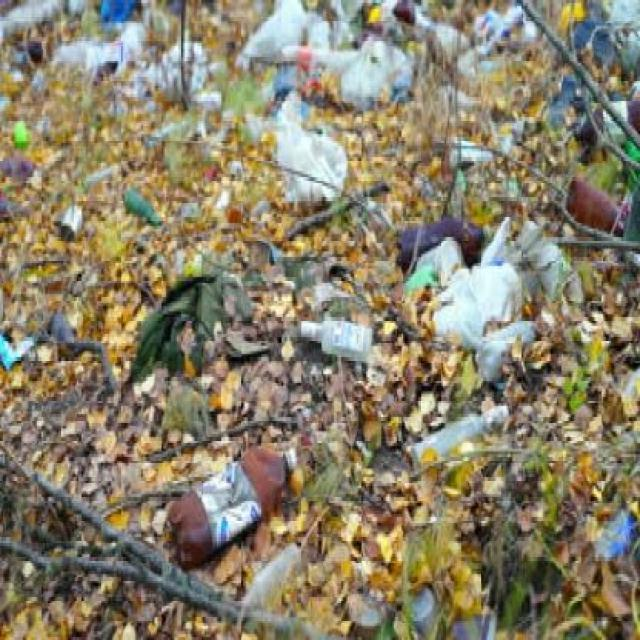garbage: (237, 0, 402, 200), (383, 200, 562, 368), (163, 437, 312, 560), (46, 20, 200, 92)
